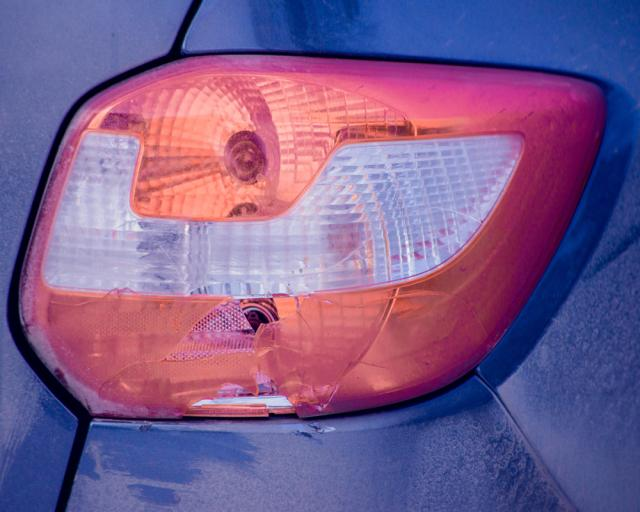lamp broken: (20, 55, 606, 420)
